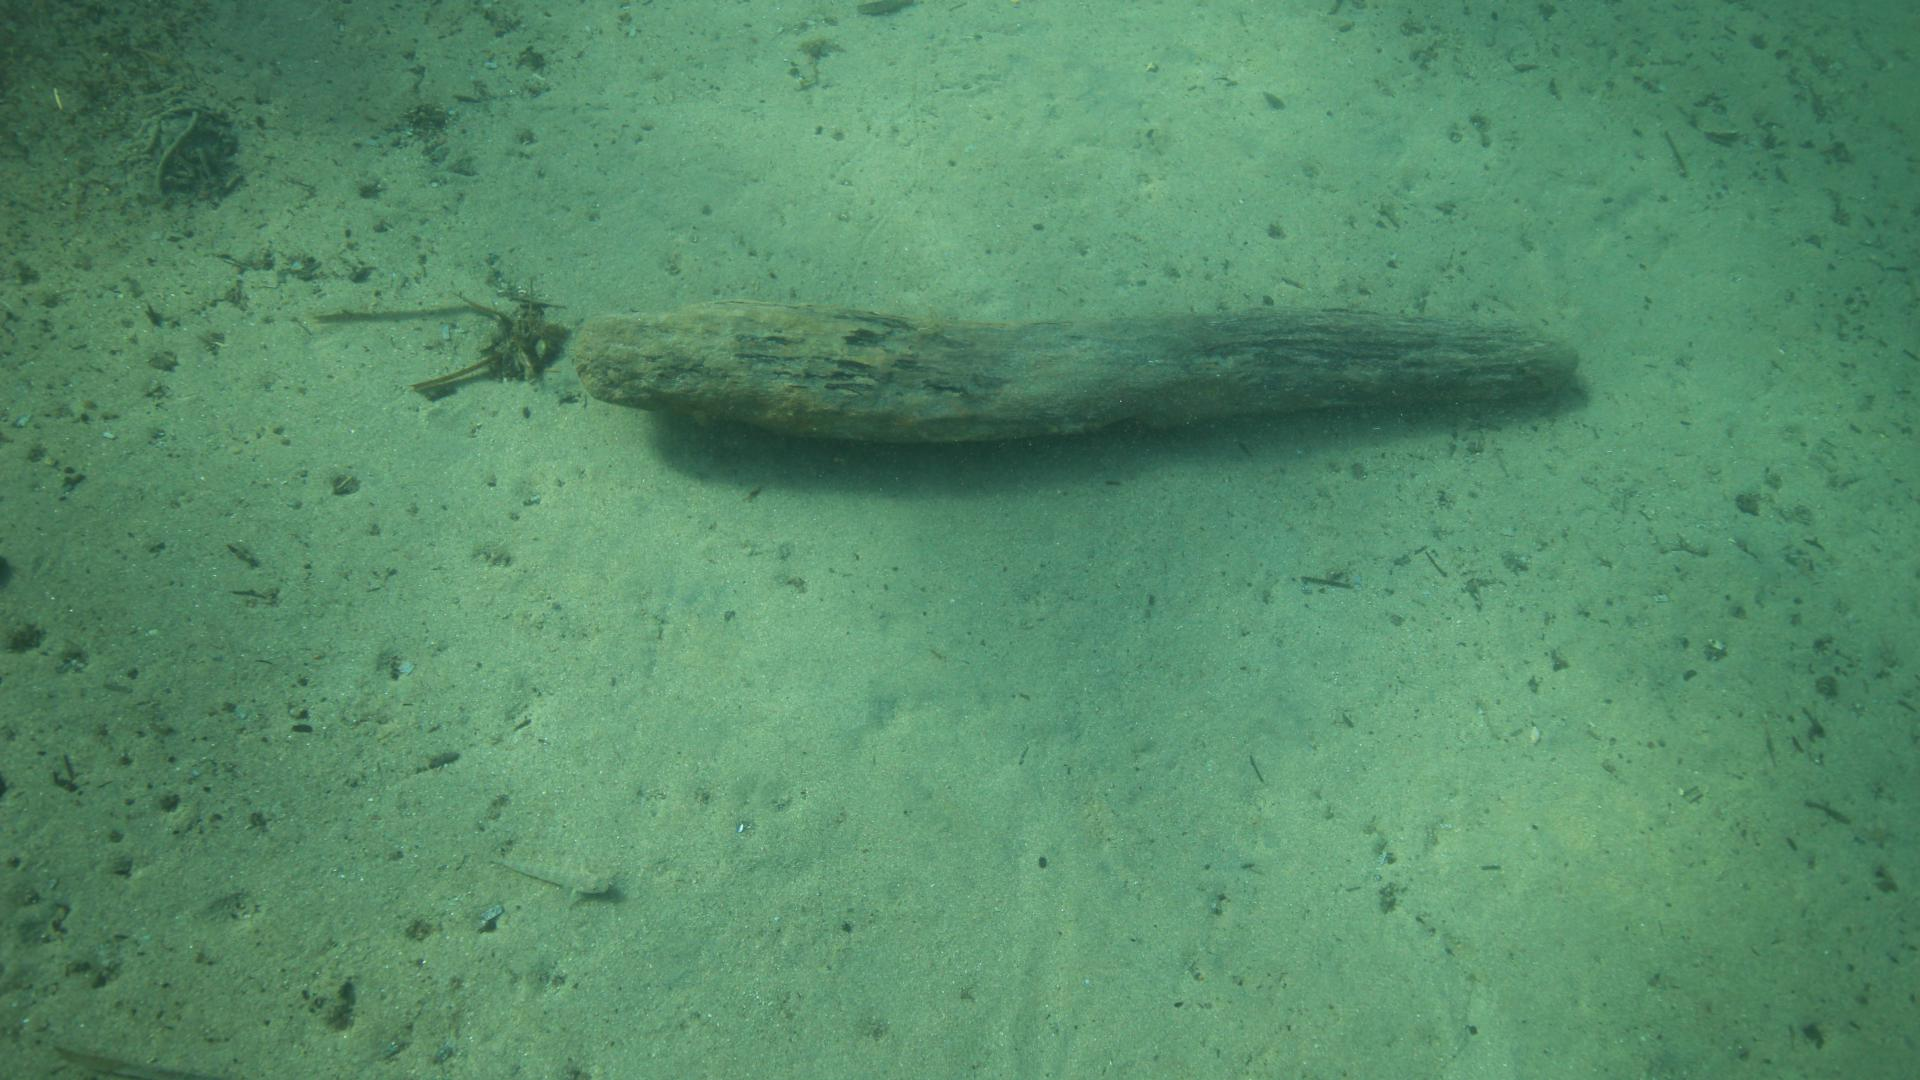wood: (572, 305, 1577, 443)
